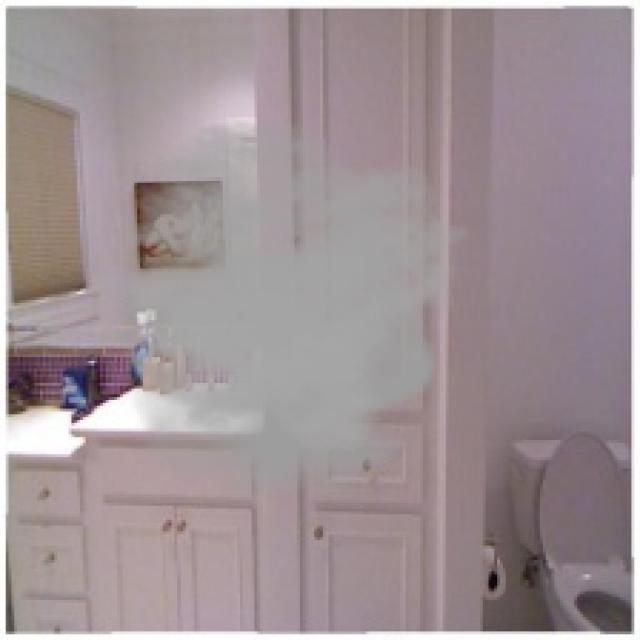smoke: (74, 117, 472, 500)
